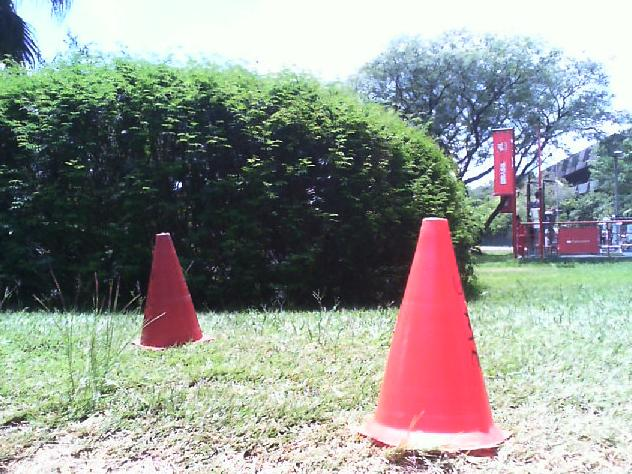0 cone: (358, 218, 514, 453), (132, 234, 214, 352)
